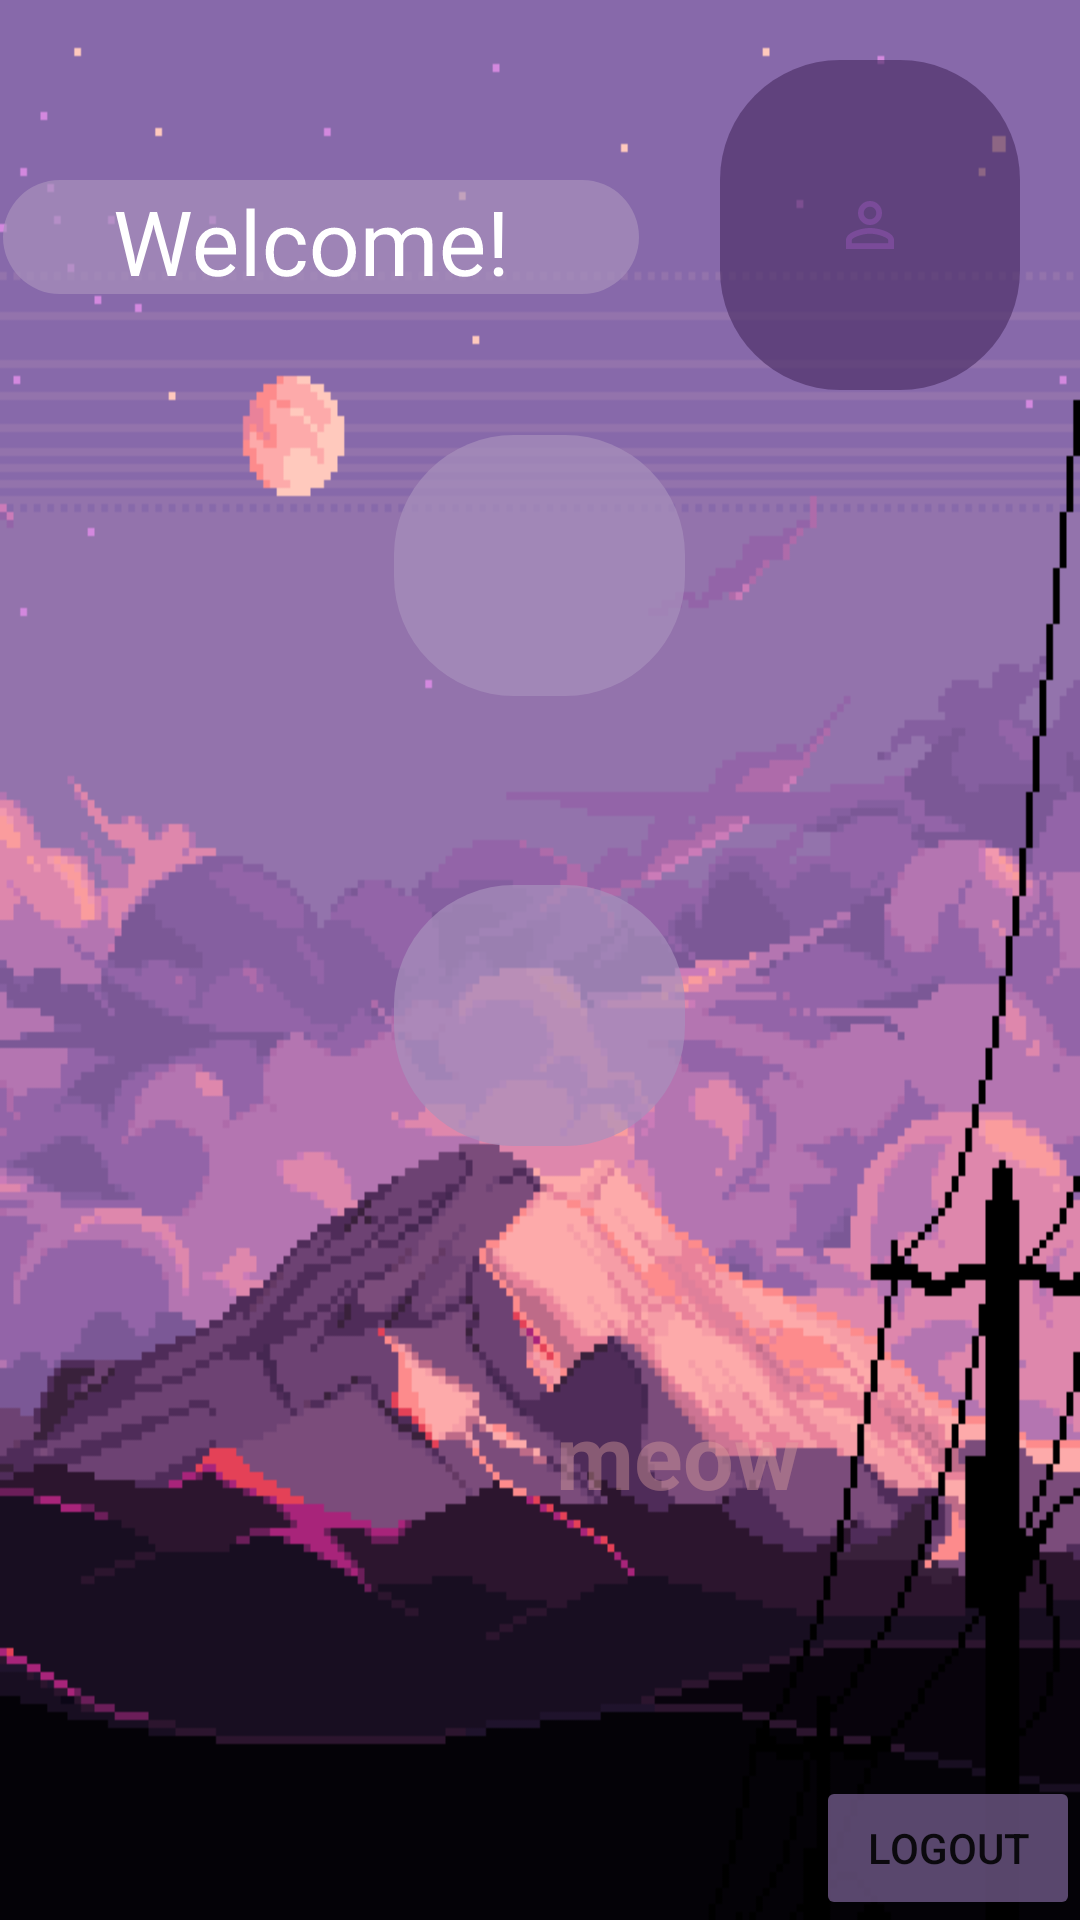

Icon bounding boxes for this 1080 x 1920 phone screenshot, format (x1, y1, x2, y2):
person: (720, 60, 1020, 390)
